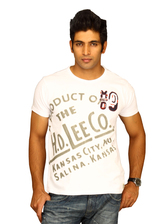clothoes: (23, 64, 145, 195)
